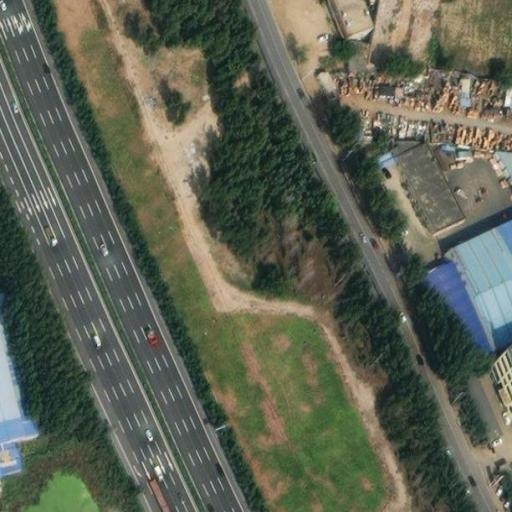building: (448, 211, 512, 340), (424, 252, 493, 353), (394, 134, 464, 227), (464, 364, 509, 436), (339, 0, 375, 31), (0, 430, 23, 474), (493, 147, 512, 178), (460, 71, 472, 99), (502, 74, 512, 96)
